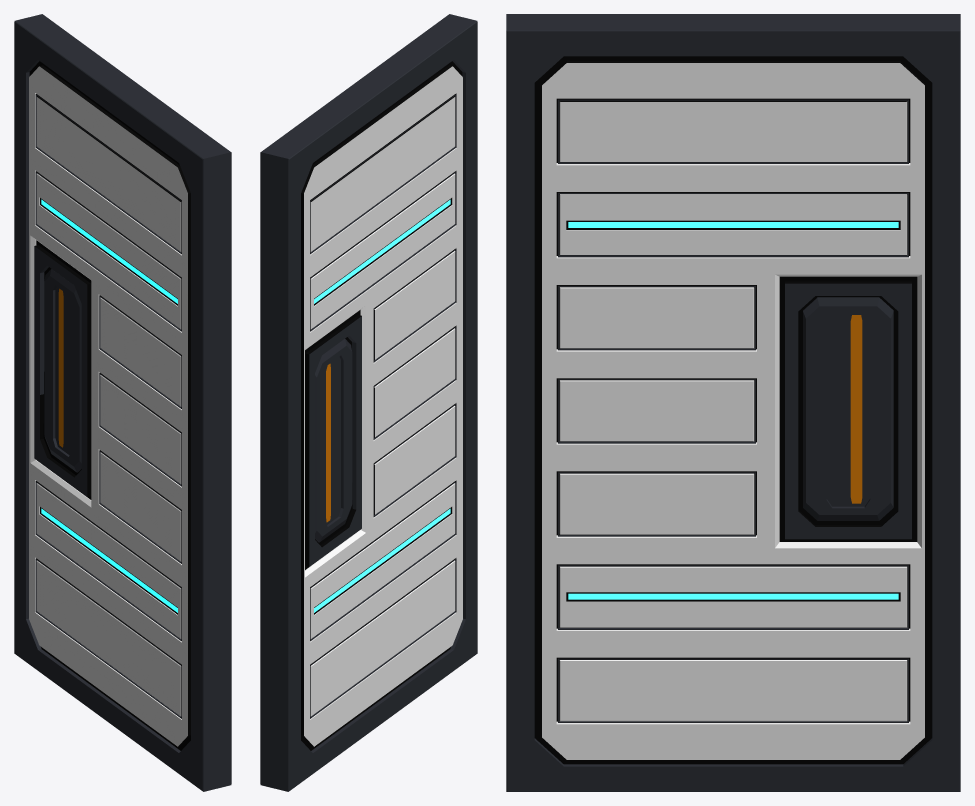
The model's file is SM_Door_Double_V3L.glb.
3 renders of one model, left to right at view 1: azimuth 30°, elevation 25°; view 2: azimuth 150°, elevation 25°; view 3: azimuth 270°, elevation 25°, orthographic. The views are drawn at different scales.
Visible parts, largest first — view 1: SM_Door_Double_V3L; view 2: SM_Door_Double_V3L; view 3: SM_Door_Double_V3L.
Part boxes in pixels (x1=…): SM_Door_Double_V3L: x1=14, y1=14, x2=231, y2=791; SM_Door_Double_V3L: x1=260, y1=14, x2=477, y2=791; SM_Door_Double_V3L: x1=506, y1=14, x2=960, y2=791.
Size of the model in its own units: 0.354 by 7.4 by 4.
